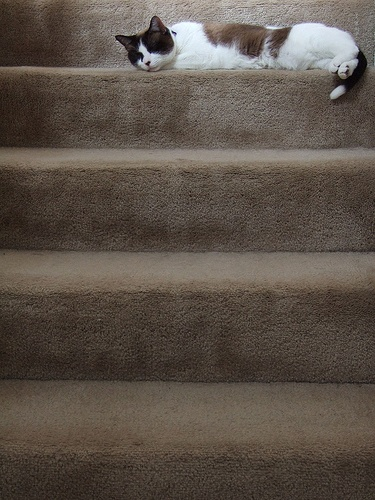stairs_up: (1, 94, 375, 494)
